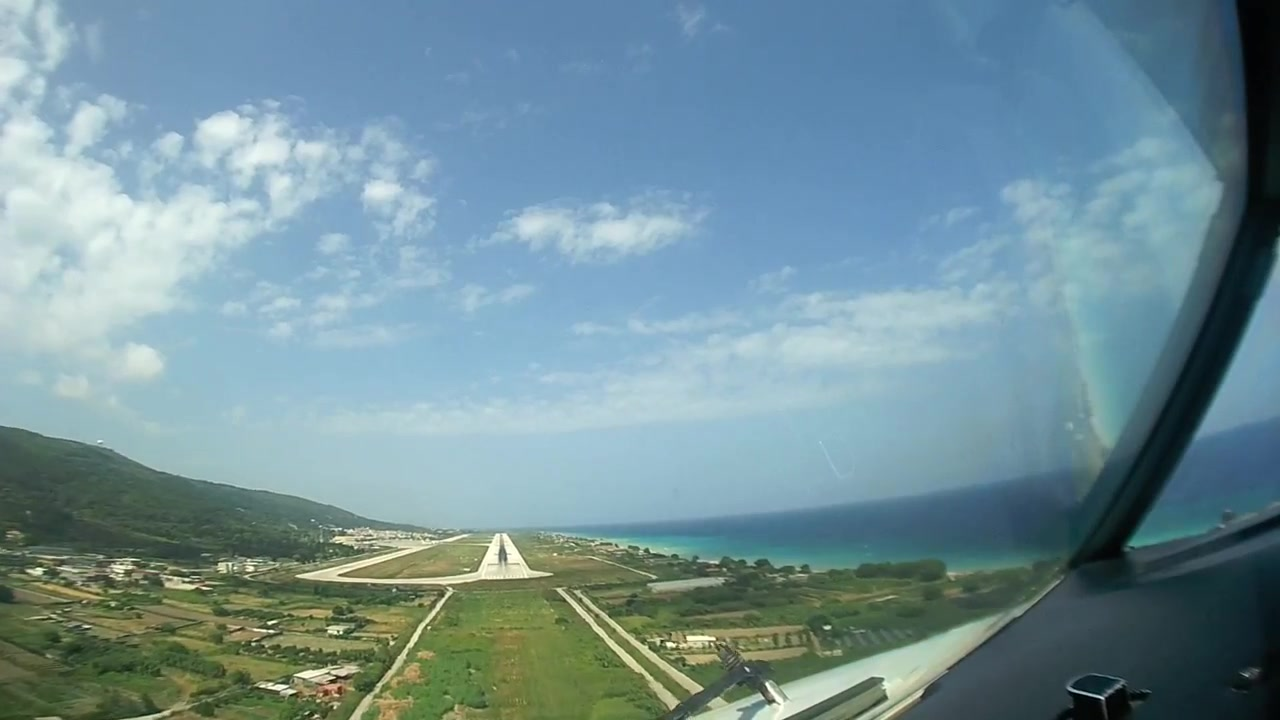entrance: (484, 573, 525, 580)
runway: (476, 531, 532, 582)
